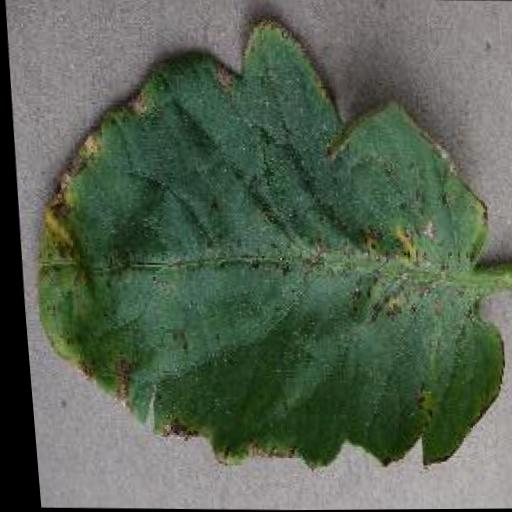Bacterial Spot: (1, 12, 512, 477)
